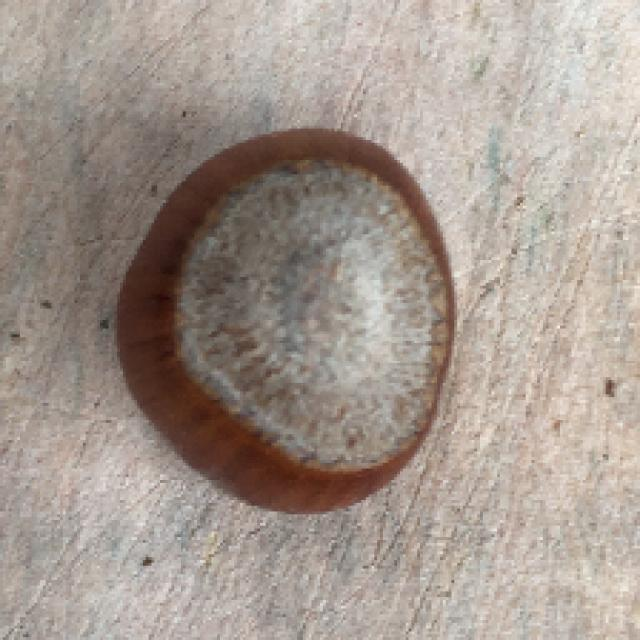qualityHazelnut: (114, 126, 455, 506)
